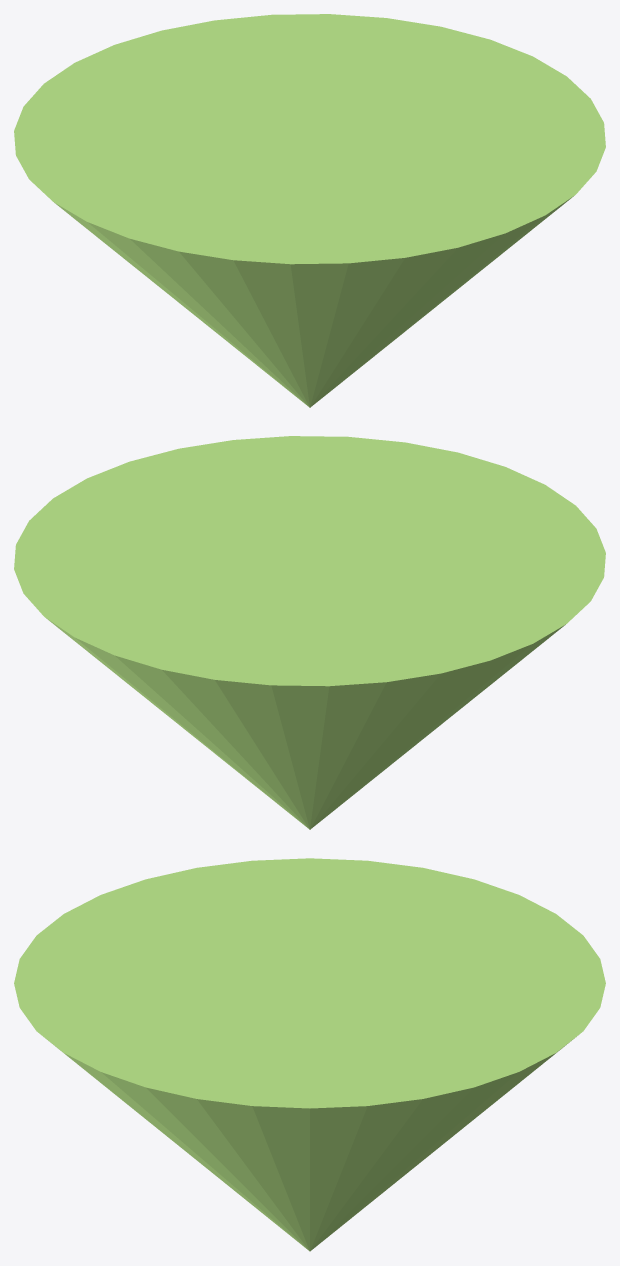
Rendered from Island.glb.
3 views of the same model, one above another, from view 1: azimuth 30°, elevation 25°; view 2: azimuth 150°, elevation 25°; view 3: azimuth 270°, elevation 25° (orthographic).
Visible parts, largest first — view 1: Island; view 2: Island; view 3: Island.
Boxes of the visible parts, left/top/right/bottom form: Island: left=14, top=14, right=605, bottom=407; Island: left=14, top=436, right=605, bottom=829; Island: left=14, top=858, right=605, bottom=1251.
Bounding box in the file's own units: 40 × 20 × 40.
